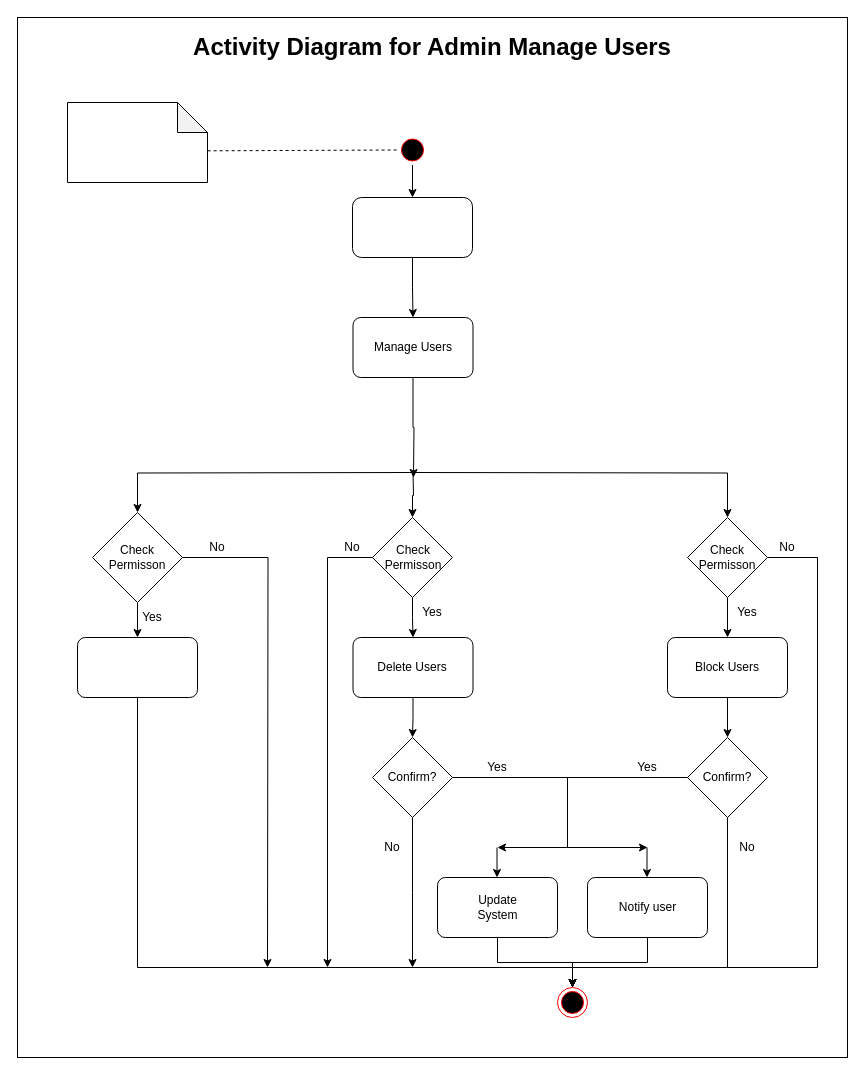
Some shapes in this 865 by 1075 pixel diagram are drawn without their labels. The shapes that lost their labels are listed below. From the top down, each one's centre as x and y in pixels, then its label:
At pixel 137 142: "Admin Logged in".
At pixel 412 227: "Settings".
At pixel 137 667: "View Users".
